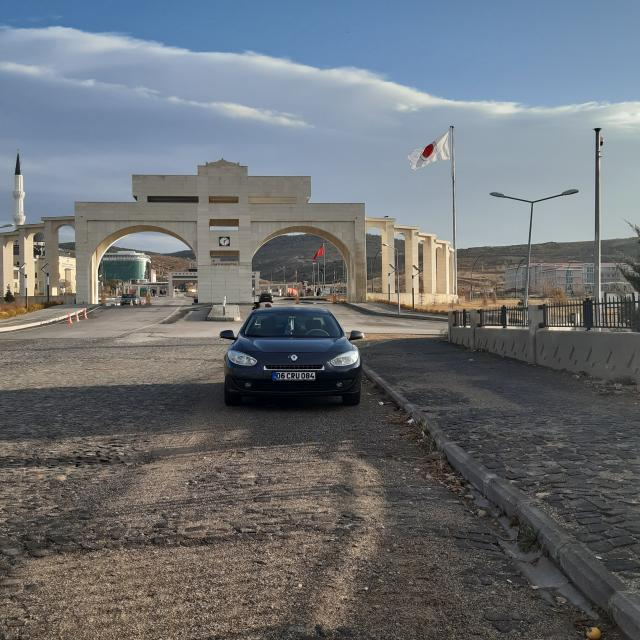license_plate: (272, 372, 315, 380)
